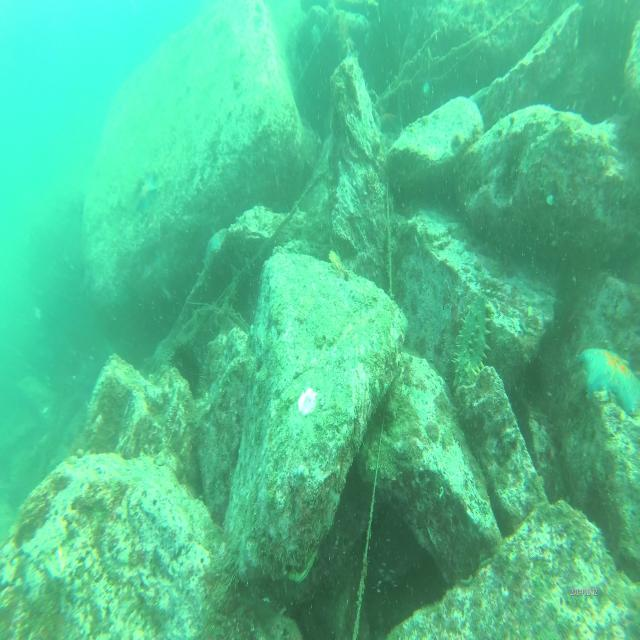echinus: (170, 338, 202, 398)
holothurian: (454, 287, 491, 395)
starfish: (577, 336, 640, 426), (373, 108, 401, 137)
